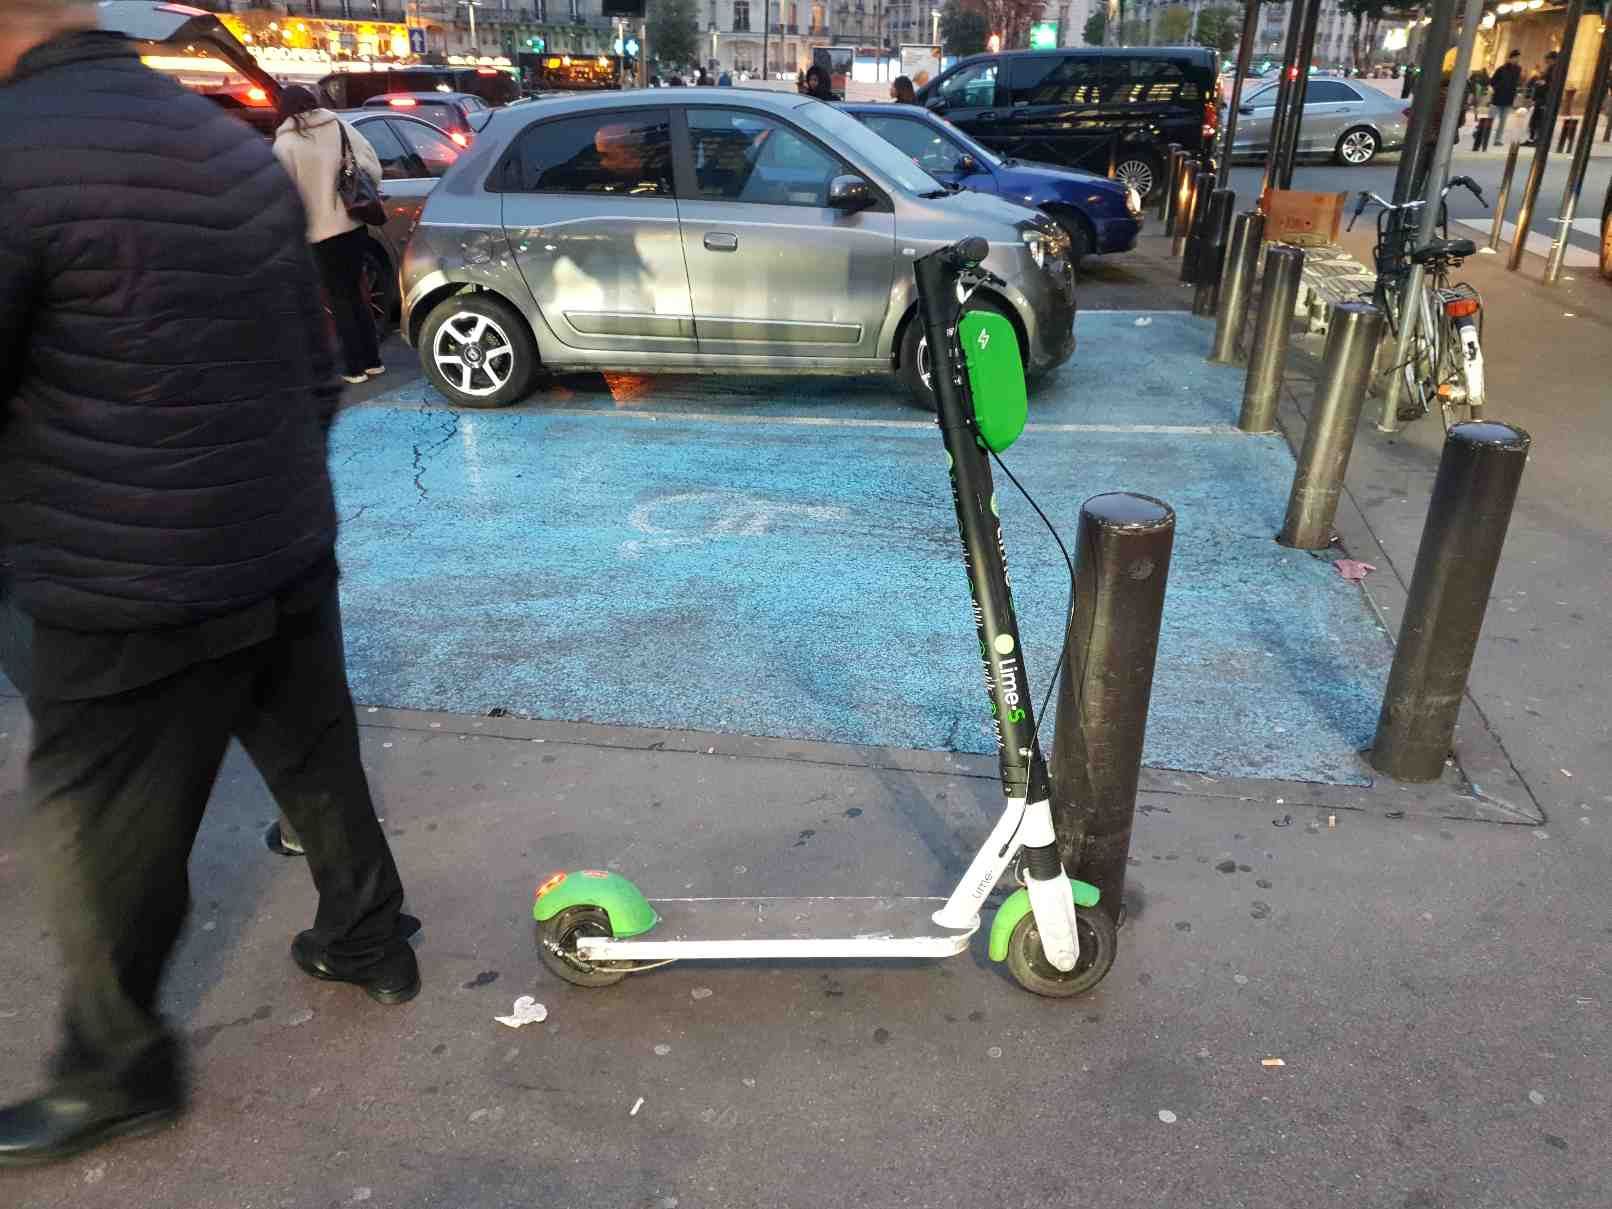scooter: (506, 132, 1121, 1046)
